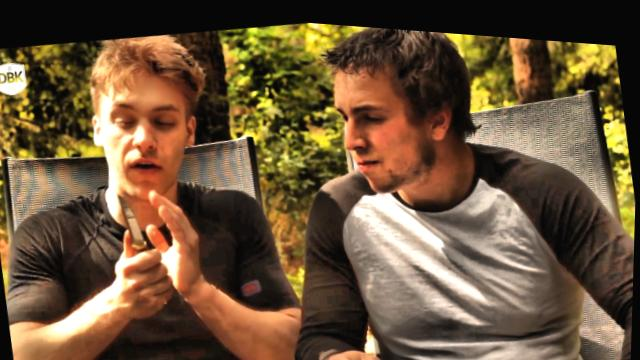knife: (95, 172, 181, 301)
